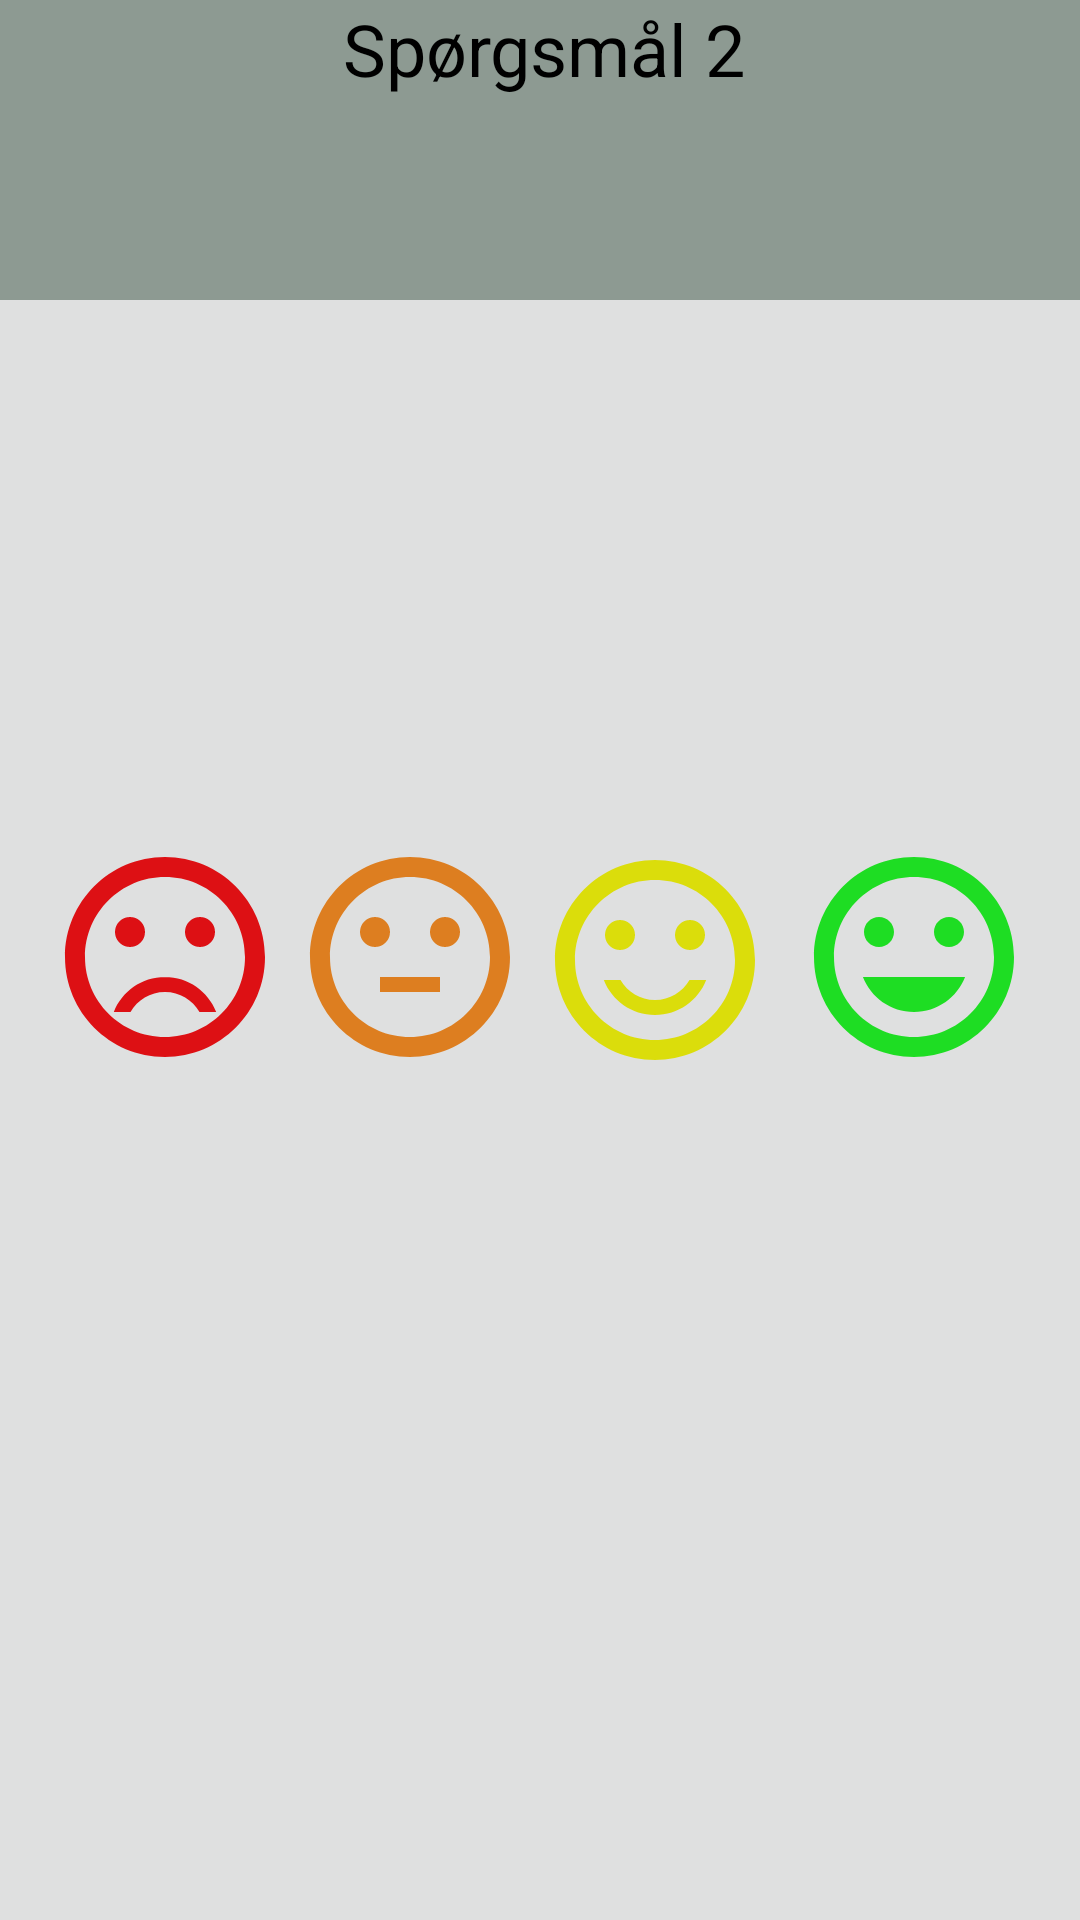

Where to tap for icons on this 1080w x 1920h app screen, as [x,y]:
smiley dissatisfied: [165,957]
smiley happy: [914,957]
smiley neutral: [410,957]
smiley satisfied: [655,960]
